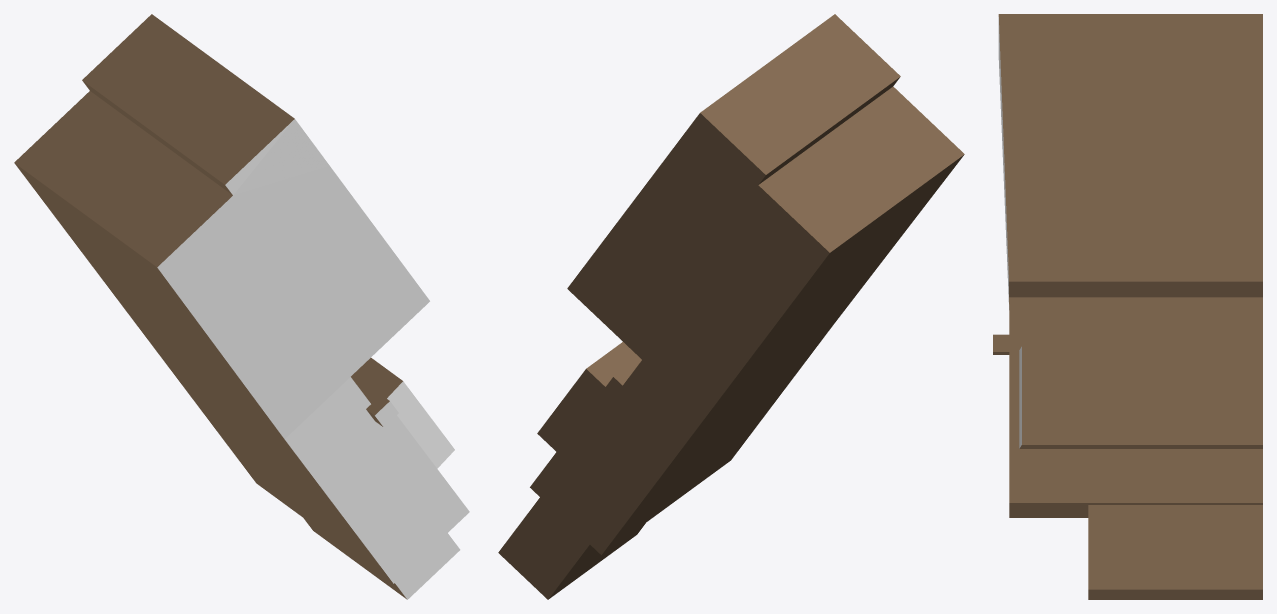
3 views of the same model, side by side, from view 1: azimuth 30°, elevation 25°; view 2: azimuth 150°, elevation 25°; view 3: azimuth 270°, elevation 25° (orthographic). The views are drawn at different scales.
Parts seen in each view (by area): view 1: City_PC-08726; view 2: City_PC-08726; view 3: City_PC-08726.
Boxes of the visible parts, x1,y1,x2,y2 form: City_PC-08726: (14,14,469,599); City_PC-08726: (498,14,964,599); City_PC-08726: (993,14,1262,599).
Bounding box in the file's own units: 1582 × 2390 × 1139.
